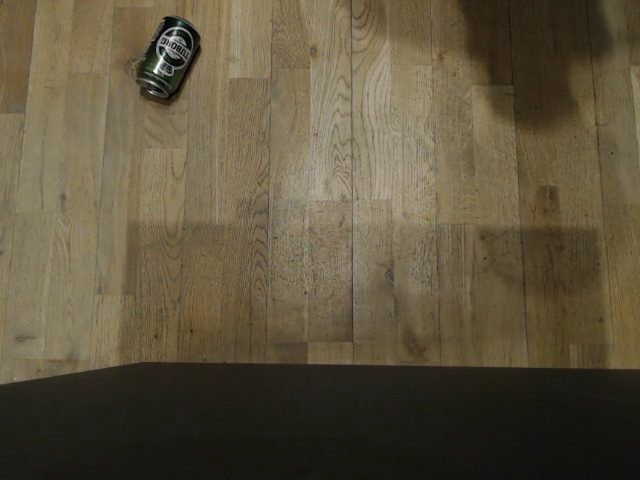beer: (132, 12, 204, 105)
